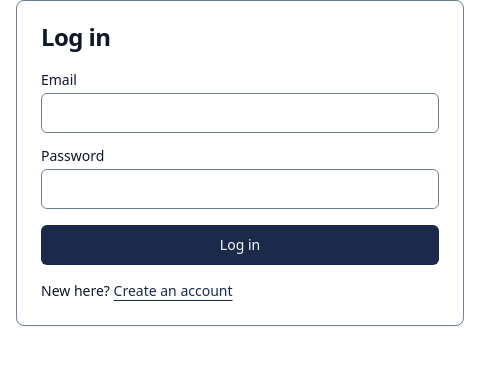
Test case: LoginPage › T-032 wrong credentials show one generic error and stay on the page
Type "ana@example.com" into the field labelled "Email" at (240, 113), box [41,93,439,133]
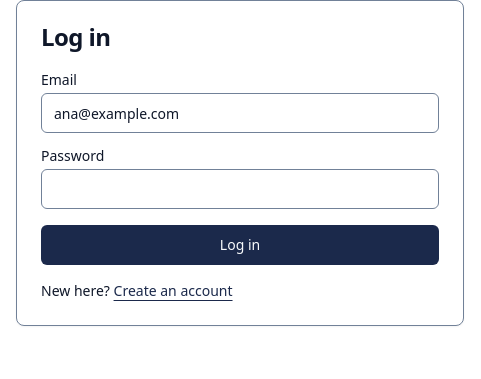
Type "not the password" into the password field labelled "Password" at (240, 189), box [41,169,439,209]
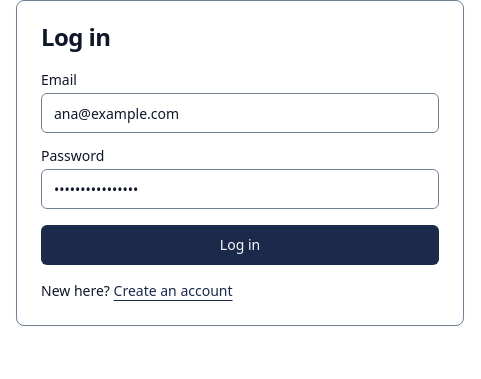
Click the button "Log in" at (240, 245), box [41,225,439,265]
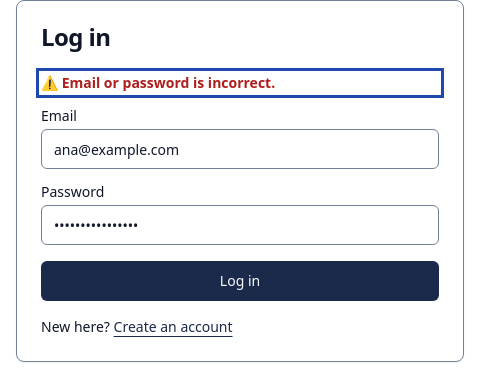
Check: the message shows "Email or password is incorrect.", box [62,73,275,92]
Check: the number of messages is 1, box [41,73,275,92]
